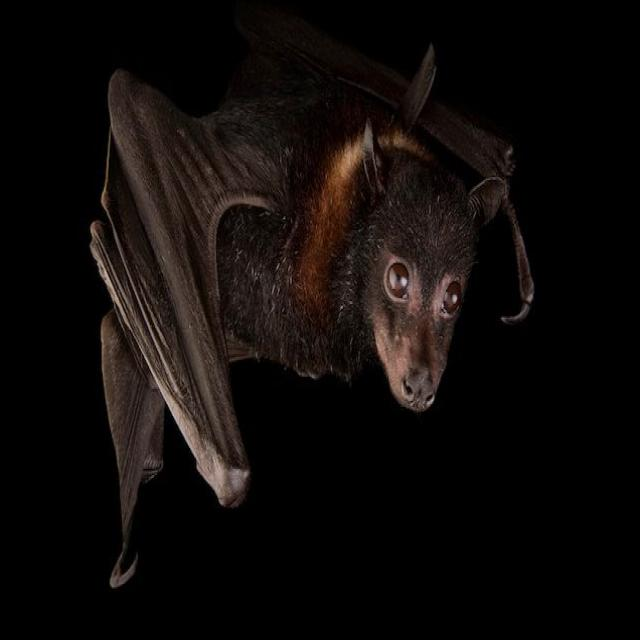bat: (91, 5, 534, 587)
